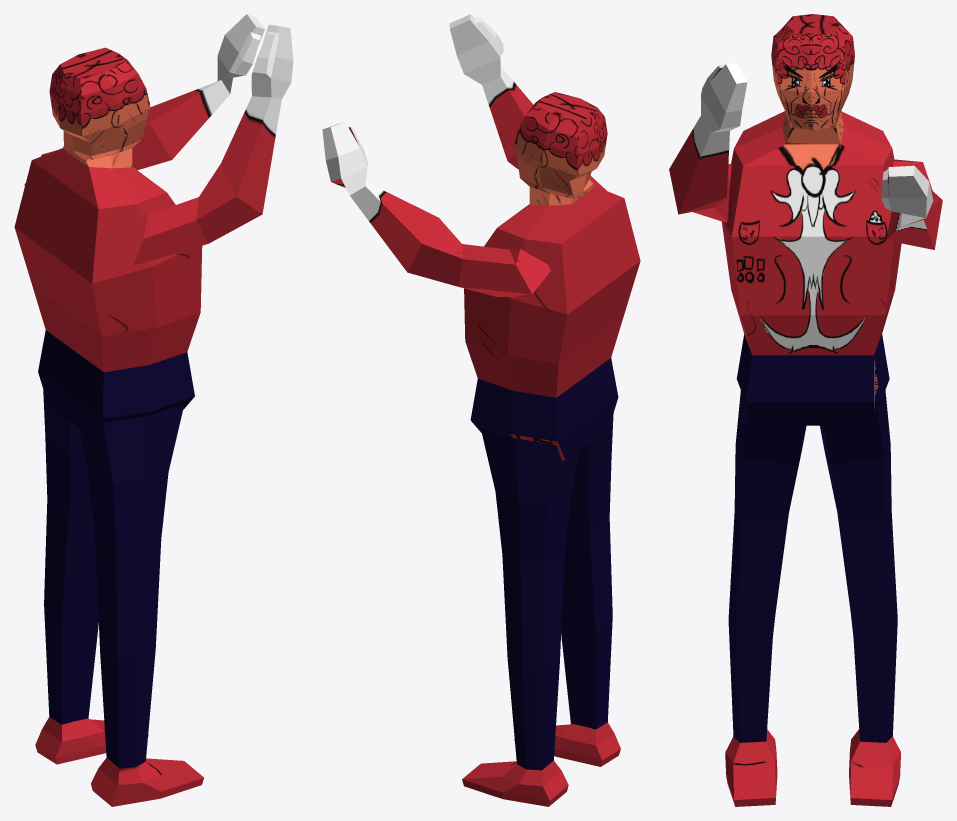
File: DeuxBrasLeves.fbx
3 renders of one model, left to right at view 1: azimuth 30°, elevation 25°; view 2: azimuth 150°, elevation 25°; view 3: azimuth 270°, elevation 25°, orthographic. The views are drawn at different scales.
Parts seen in each view (by area): view 1: Cube.001; view 2: Cube.001; view 3: Cube.001.
Boxes of the visible parts, x1,y1,x2,y2 form: Cube.001: (14, 14, 293, 806); Cube.001: (322, 14, 640, 806); Cube.001: (669, 14, 942, 806).
Size of the model in its own units: 162 by 460 by 146.
